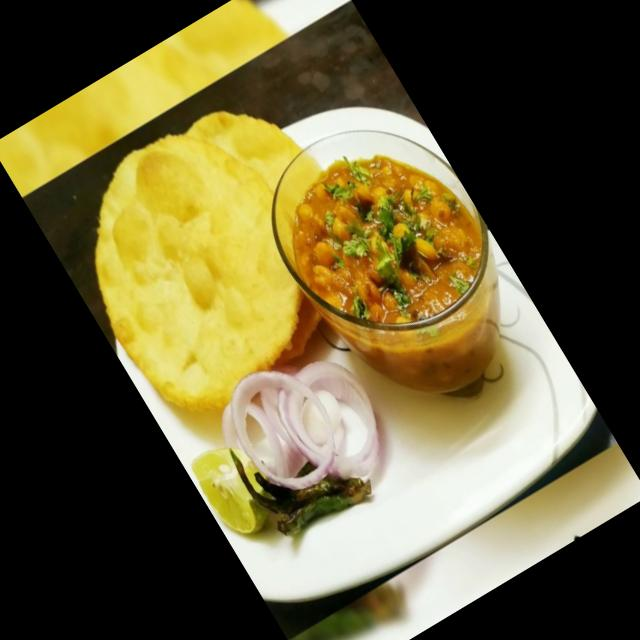Bhatura: (39, 74, 404, 443)
Chole: (261, 109, 504, 359)
